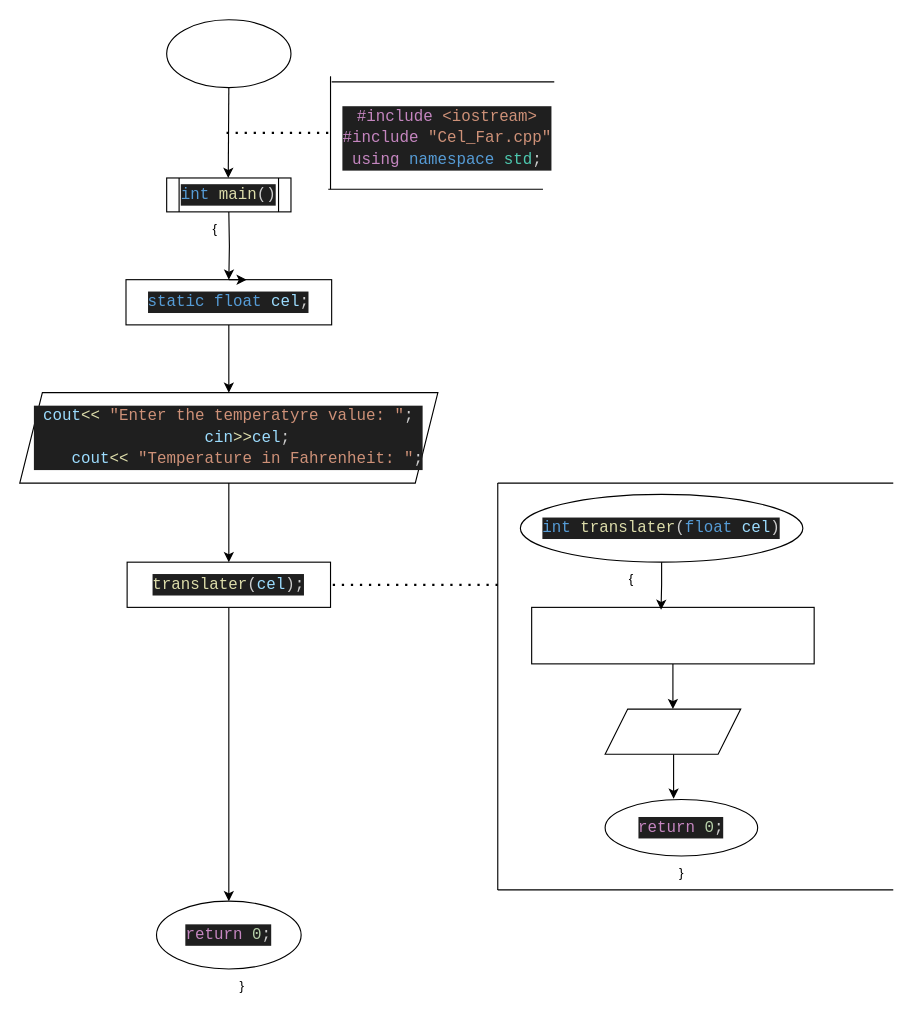
Image size: 914x1023. Some labels were removed from this diagram. The box of each missing label's shape, as (x1, y1, x2, y2) in pixels:
cout << f ;: (604, 708, 741, 754)
register const int x = 32 ; auto f = ( cel * p ) + x ;: (531, 606, 814, 664)
Начало: (166, 19, 291, 88)
